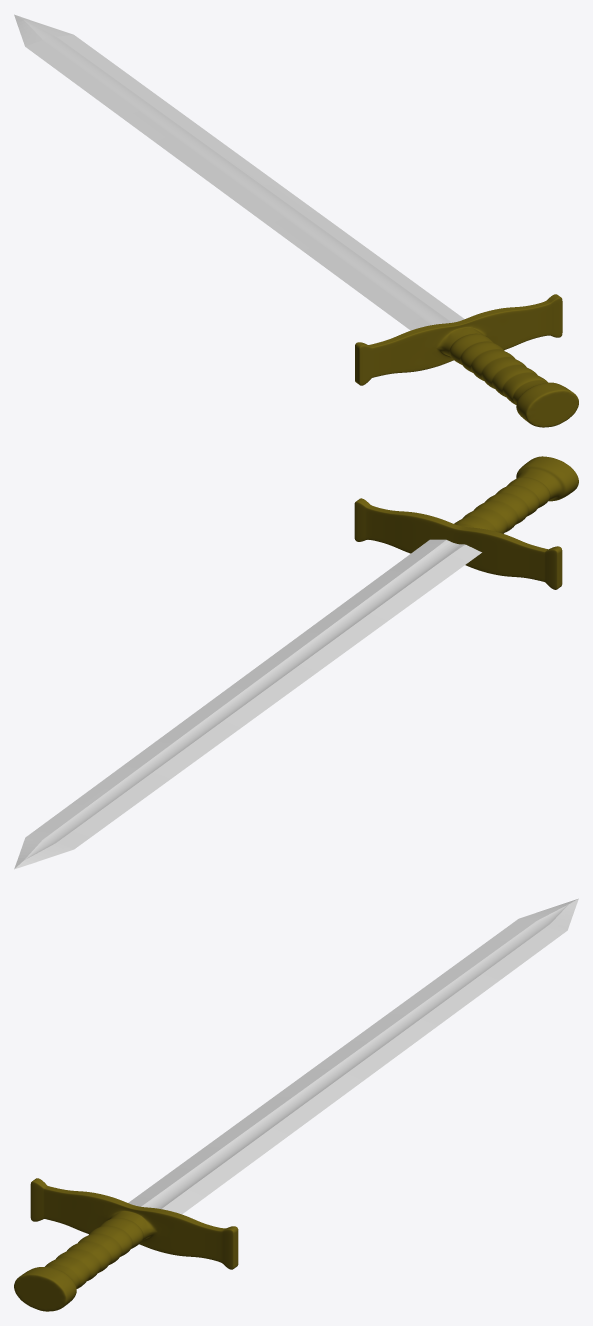
Rendered from sword-1.glb.
3 views of the same model, one above another, from view 1: azimuth 30°, elevation 25°; view 2: azimuth 150°, elevation 25°; view 3: azimuth 330°, elevation 25° (orthographic).
Parts seen in each view (by area): view 1: mesh-shen, mesh-bin; view 2: mesh-shen, mesh-bin; view 3: mesh-shen, mesh-bin.
Part boxes in pixels (x1,y1,x2,y2): mesh-shen: (14,14,464,330); mesh-bin: (355,294,578,427); mesh-shen: (14,539,481,869); mesh-bin: (354,456,578,589); mesh-shen: (128,898,578,1214); mesh-bin: (14,1178,238,1311).
Size of the model in its own units: 2.93 by 0.5509 by 13.42.
